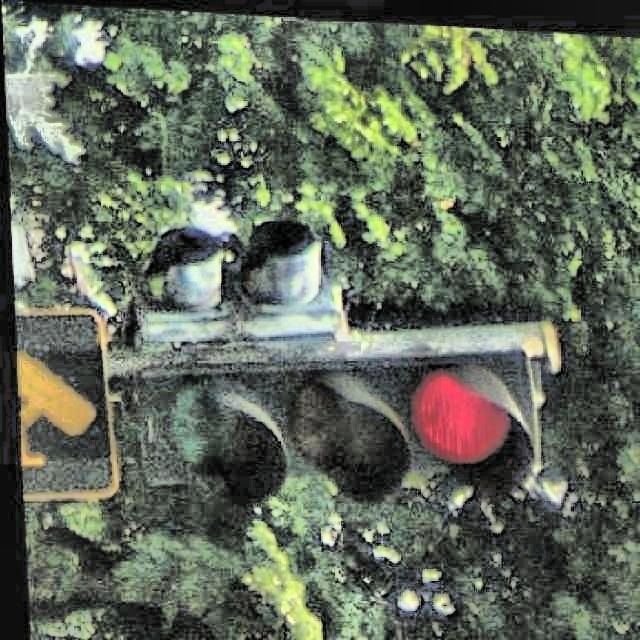red: (145, 332, 546, 492)
